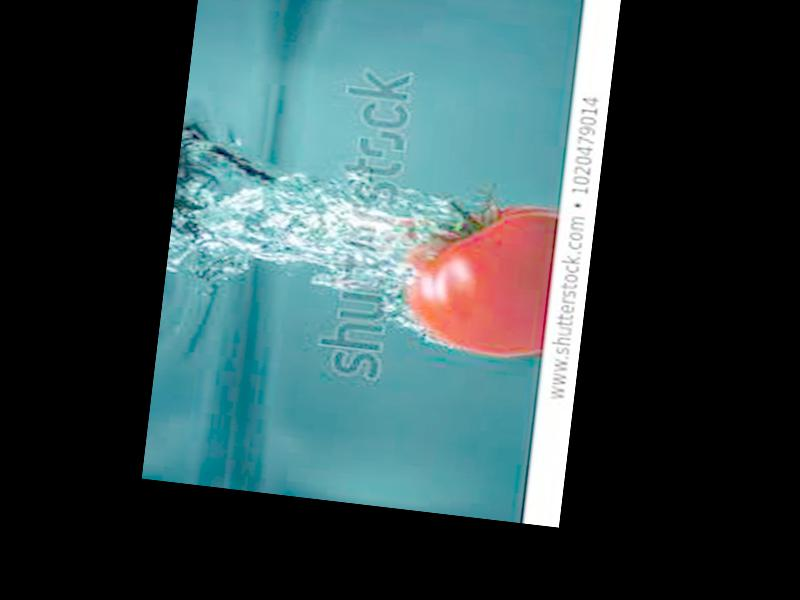Tomato: (399, 192, 560, 360)
